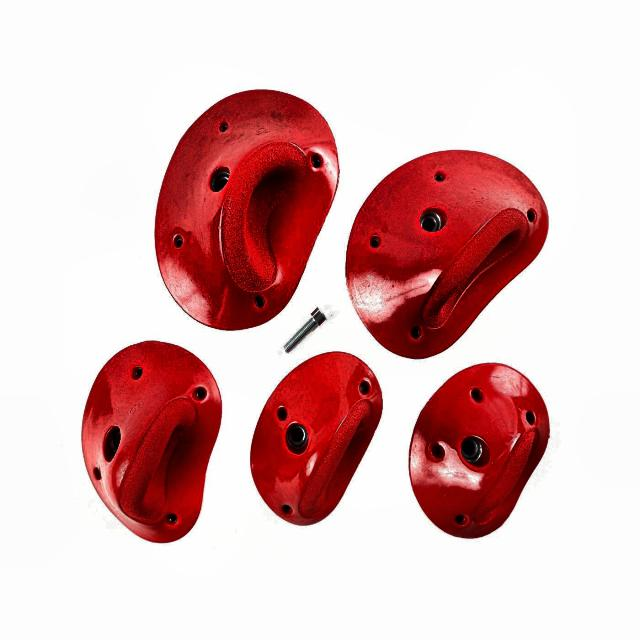Hold: (158, 85, 336, 325), (342, 144, 542, 352), (82, 350, 220, 544), (406, 364, 550, 537), (250, 357, 385, 526)
